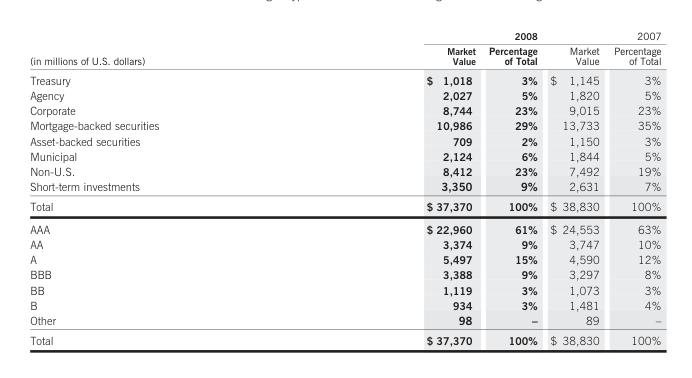table: (29, 28, 660, 346)
table column: (29, 28, 291, 346), (291, 28, 481, 346), (481, 28, 543, 346), (543, 28, 605, 346), (605, 28, 660, 346)
table column header: (29, 28, 660, 69)
table row: (29, 42, 660, 69), (29, 196, 660, 217), (29, 217, 660, 236), (29, 69, 660, 87), (29, 178, 660, 196), (29, 312, 660, 329), (29, 329, 660, 346), (29, 132, 660, 148), (29, 281, 660, 297), (29, 87, 660, 102), (29, 102, 660, 117), (29, 117, 660, 132), (29, 148, 660, 163), (29, 163, 660, 178), (29, 236, 660, 251), (29, 251, 660, 266), (29, 266, 660, 281), (29, 297, 660, 312), (29, 28, 660, 42)
table spanning cell: (29, 28, 291, 69), (291, 28, 543, 42), (543, 28, 660, 42)
